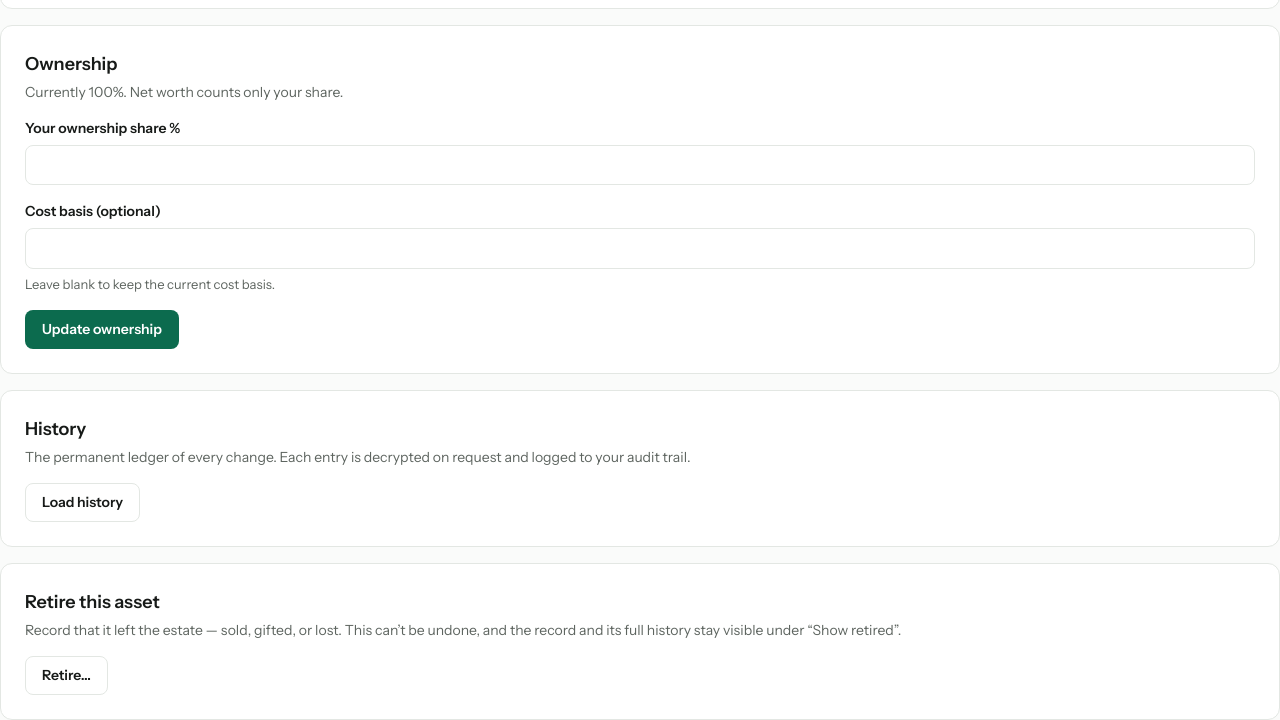
AssetDetailPanel › loads history ONLY on demand — the decrypt budget is the design
The width and height of the screenshot is (1280, 720).
(page scrolled)
Click the button "Load history" at coordinates (83, 503), box [25,483,140,522]
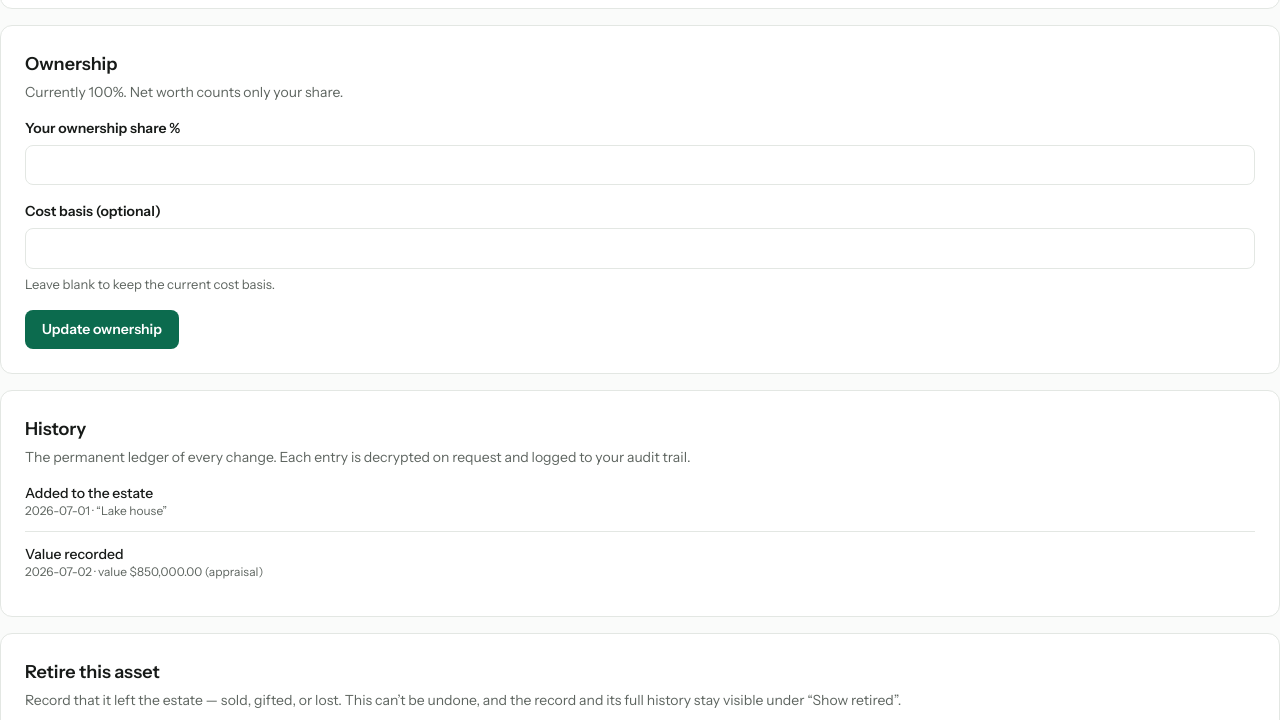
Check: the text "Added to the estate" is shown, box [25,484,153,502]
Check: the text "Value recorded" is shown, box [25,545,124,563]
